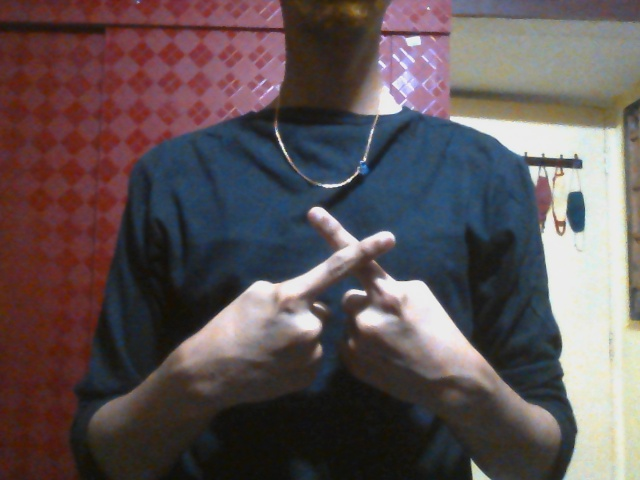X: (190, 204, 462, 407)
